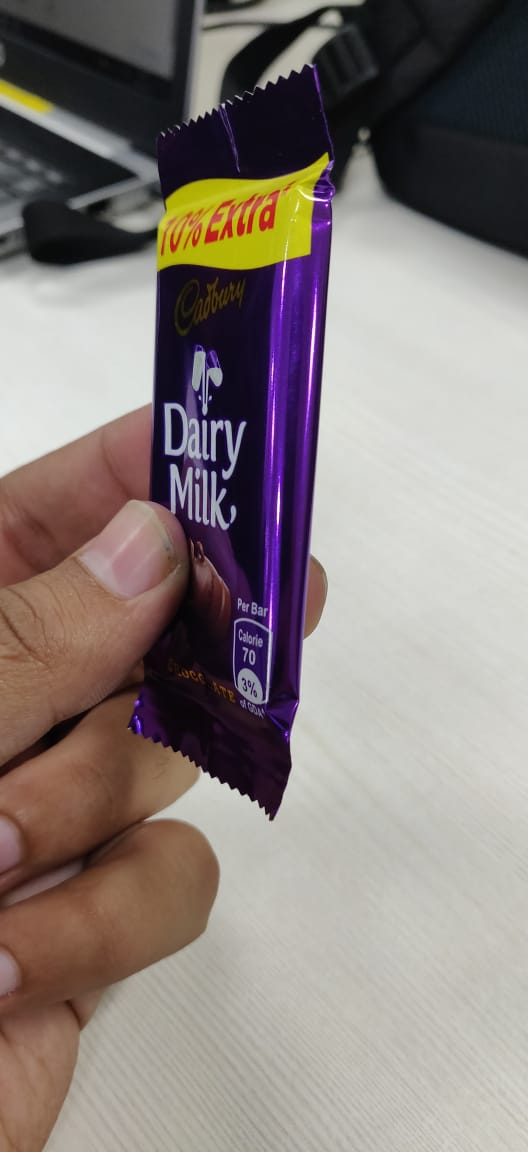dairy milk: (126, 51, 354, 821)
